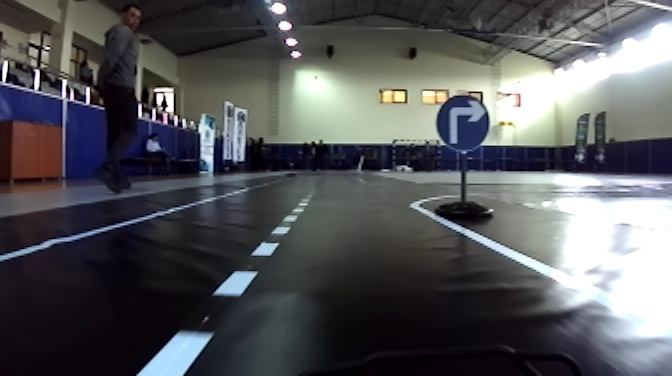saga_donus: (432, 95, 490, 149)
